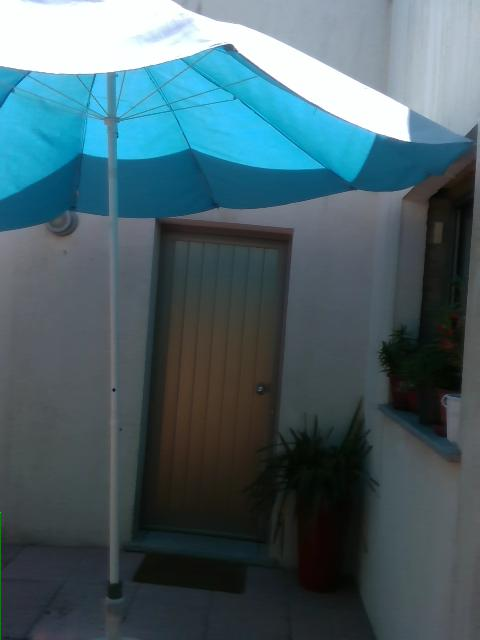door: (132, 217, 294, 563)
